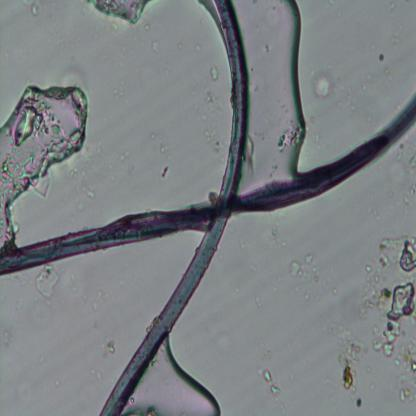Air bubble: (0, 81, 87, 250), (244, 0, 307, 182), (134, 323, 227, 415), (90, 1, 154, 26)
Background material: (358, 230, 416, 359), (331, 320, 361, 397), (273, 113, 302, 152), (73, 166, 97, 208), (35, 264, 63, 298), (29, 296, 54, 334), (394, 148, 416, 186), (292, 255, 322, 282), (262, 220, 290, 248), (310, 70, 334, 100), (260, 367, 280, 396), (205, 126, 224, 156), (204, 88, 226, 111), (388, 24, 403, 51), (118, 142, 134, 165), (96, 288, 108, 311), (149, 38, 161, 58), (104, 338, 117, 356), (0, 327, 13, 345), (404, 186, 416, 205), (159, 162, 171, 181), (89, 367, 101, 381), (208, 65, 219, 80), (362, 74, 370, 92), (381, 65, 391, 78), (30, 2, 39, 16), (255, 294, 263, 308), (378, 52, 384, 62)
Microfibre: (0, 90, 416, 277), (99, 0, 249, 416)
